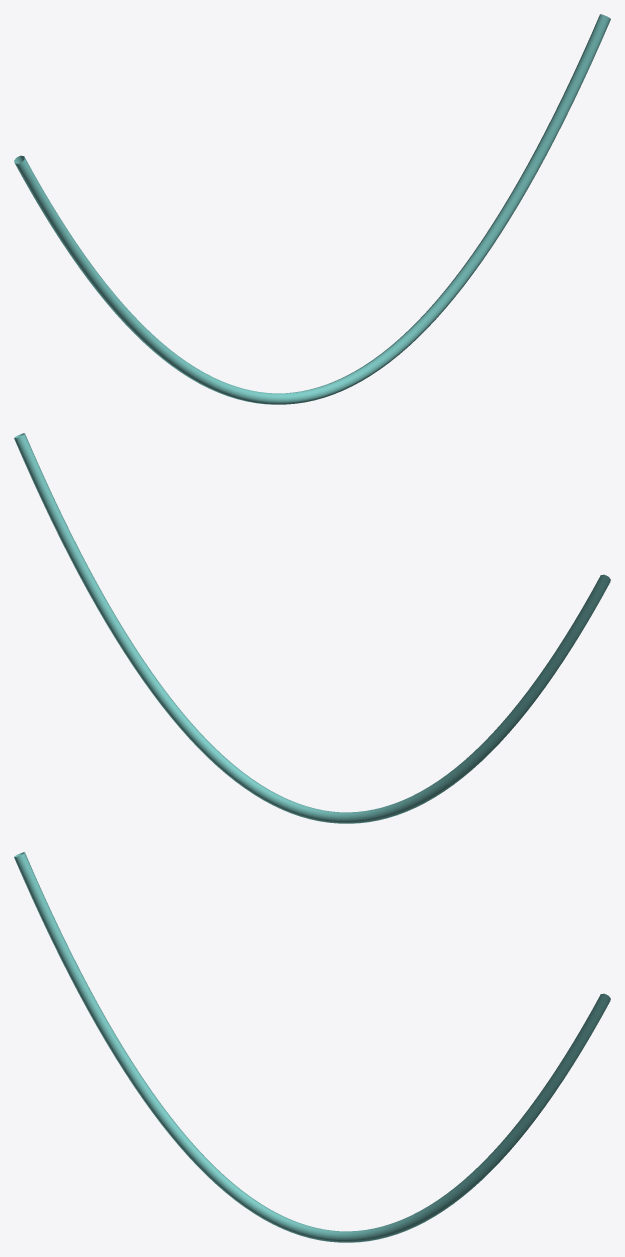
Rendered from parabola-curve.glb.
3 views of the same model, one above another, from view 1: azimuth 30°, elevation 25°; view 2: azimuth 150°, elevation 25°; view 3: azimuth 330°, elevation 25° (orthographic).
Parts seen in each view (by area): view 1: y_equals_x_squared; view 2: y_equals_x_squared; view 3: y_equals_x_squared.
Part boxes in pixels (x1,y1,x2,y2): y_equals_x_squared: (14,14,610,404); y_equals_x_squared: (14,433,610,823); y_equals_x_squared: (14,852,610,1242).
Bounding box in the file's own units: 2.03 × 1.03 × 0.036.
